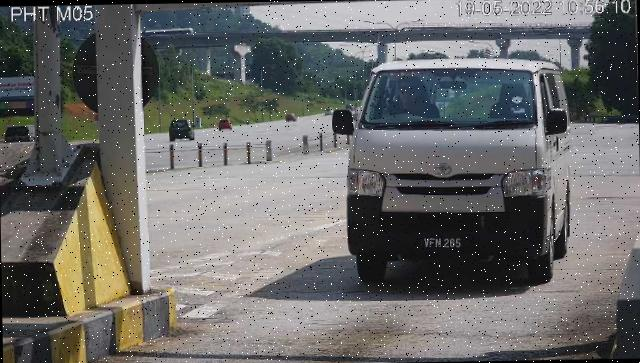License_Plate: (418, 231, 467, 257)
van: (346, 57, 574, 287)
